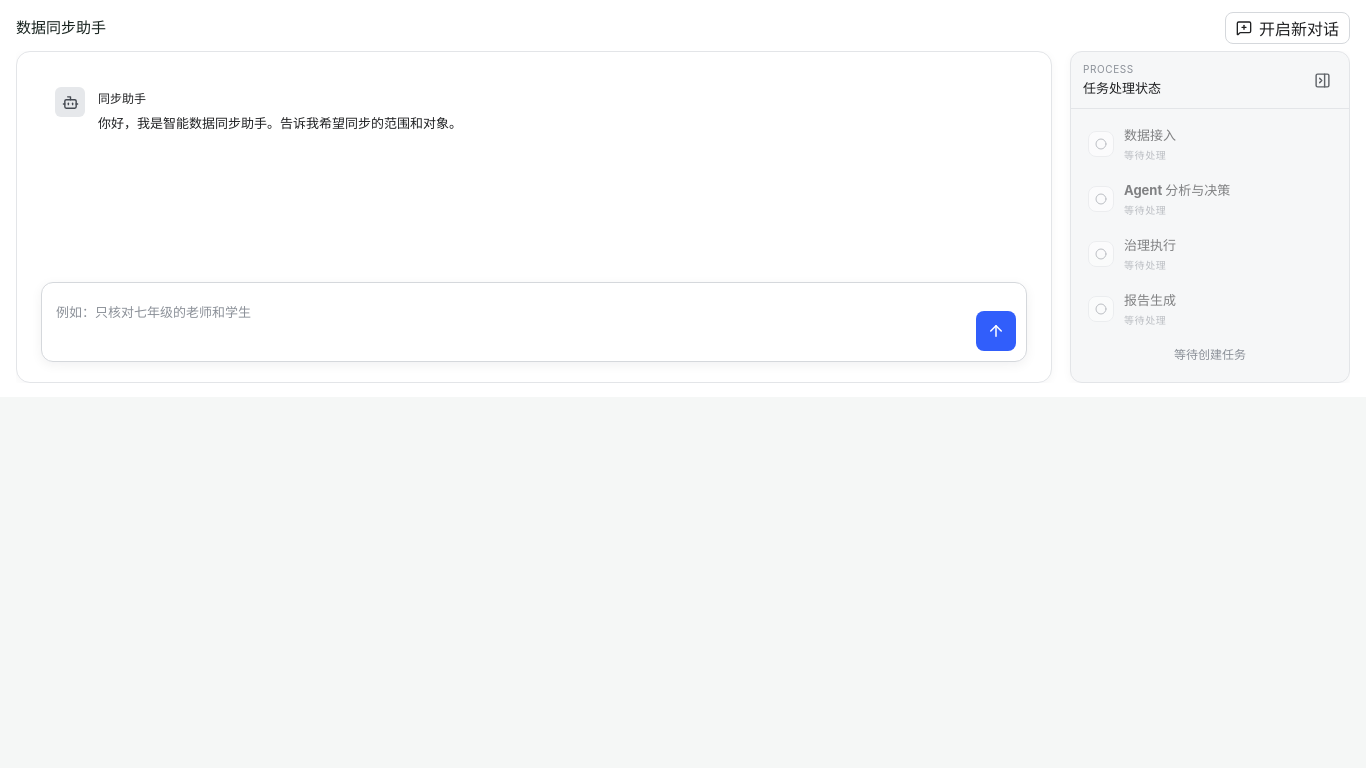
Test case: backend Agent conversation › uses the safe third-party label for database configuration
Type "同步全校教师" into the text box named "对账目标" at x=512, y=322, box left=56, top=293, right=968, bottom=351
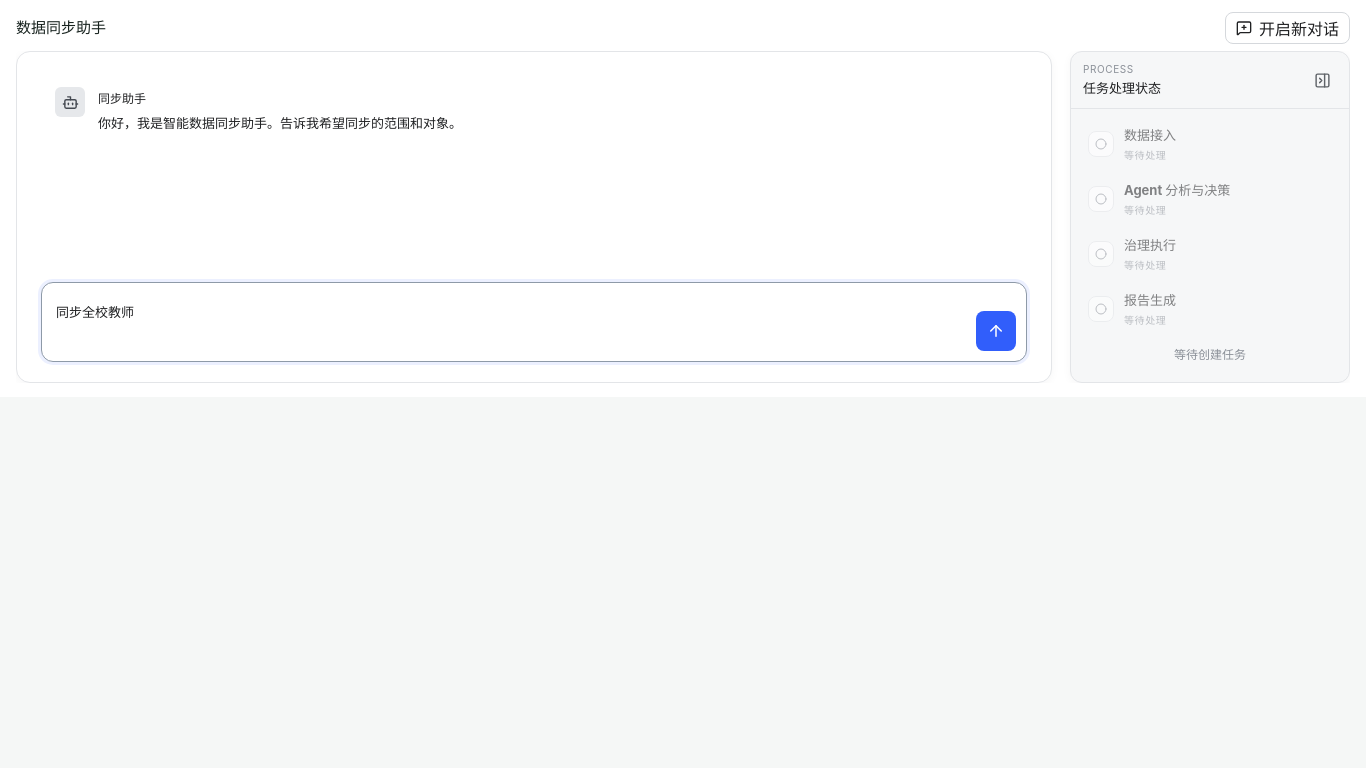
Click the button named "发送" at x=996, y=331, box left=976, top=311, right=1016, bottom=351
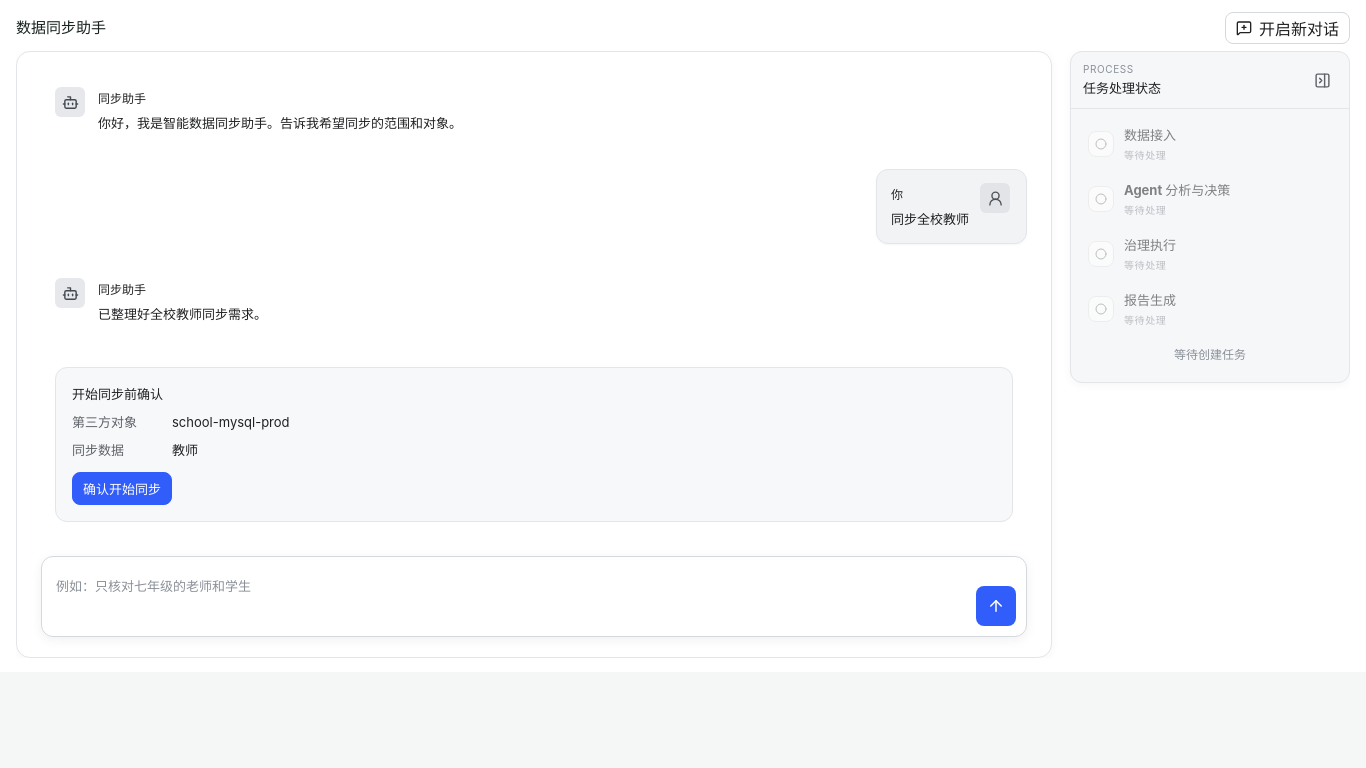
Expected: the text "school-mysql-prod" is shown, left=172, top=414, right=290, bottom=430
